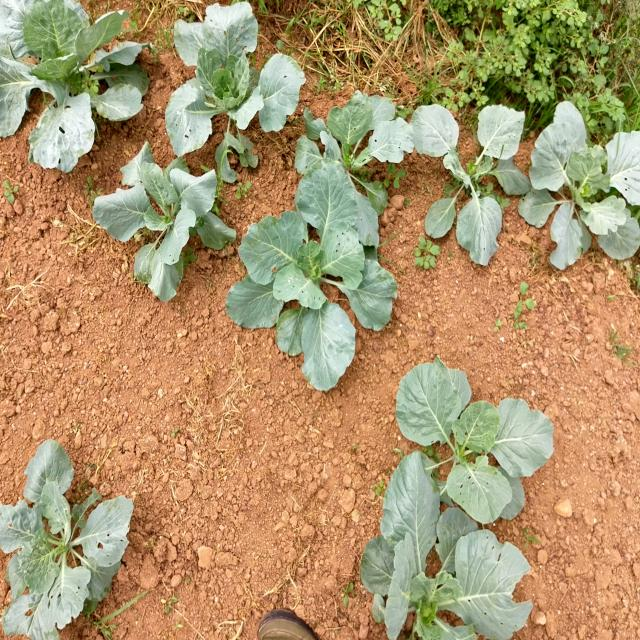Cabbage: (218, 188, 404, 398), (352, 454, 548, 640), (0, 0, 156, 164), (0, 441, 128, 640), (388, 356, 556, 500), (160, 0, 302, 162), (93, 134, 229, 302), (418, 98, 531, 274), (526, 107, 640, 273), (287, 90, 425, 190)
